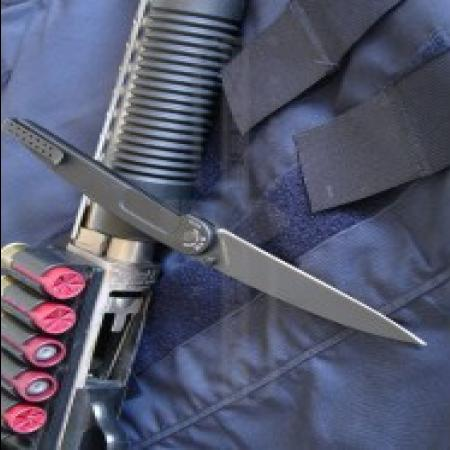long weapon: (164, 210, 434, 348)
